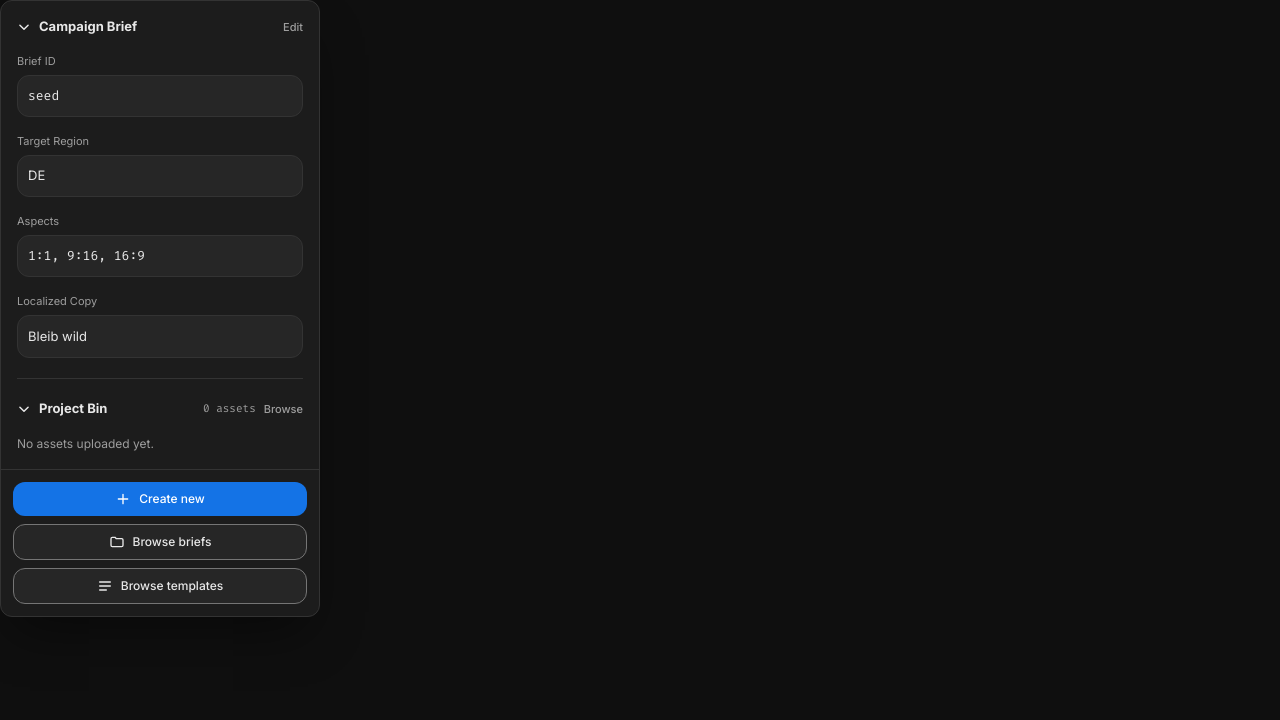
Test: Sidebar Project Bin delete › a stale listAssets response does not restore a deleted Sidebar row (PROVE DEFECT)
The image size is (1280, 720).
Check: the text "Project Bin" is shown, box [39, 399, 107, 419]
Check: the text "0 assets" is shown, box [203, 401, 256, 417]
// Open the drawer — its listAssets GET resolves immediately with both assets.
What coordinates should you click on to do the following:
click the button "Browse"
I would click on:
 (283, 409)
Its box is [264, 401, 303, 417].
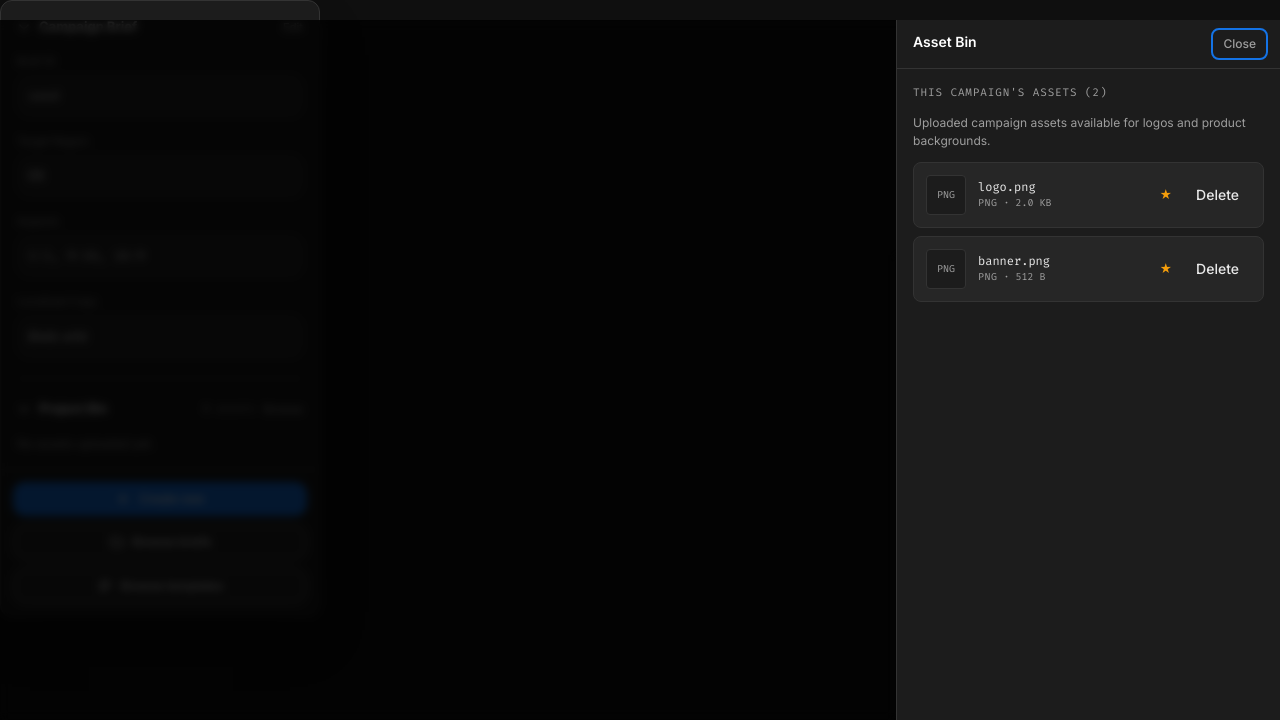
Check: the text "logo.png" is shown, box [978, 179, 1036, 195]
// Delete logo through the real drawer.
What coordinates should you click on to do the following:
click the button "Delete" in the row of "logo.png"
I would click on:
 (1218, 194)
Its box is [1184, 178, 1251, 210].
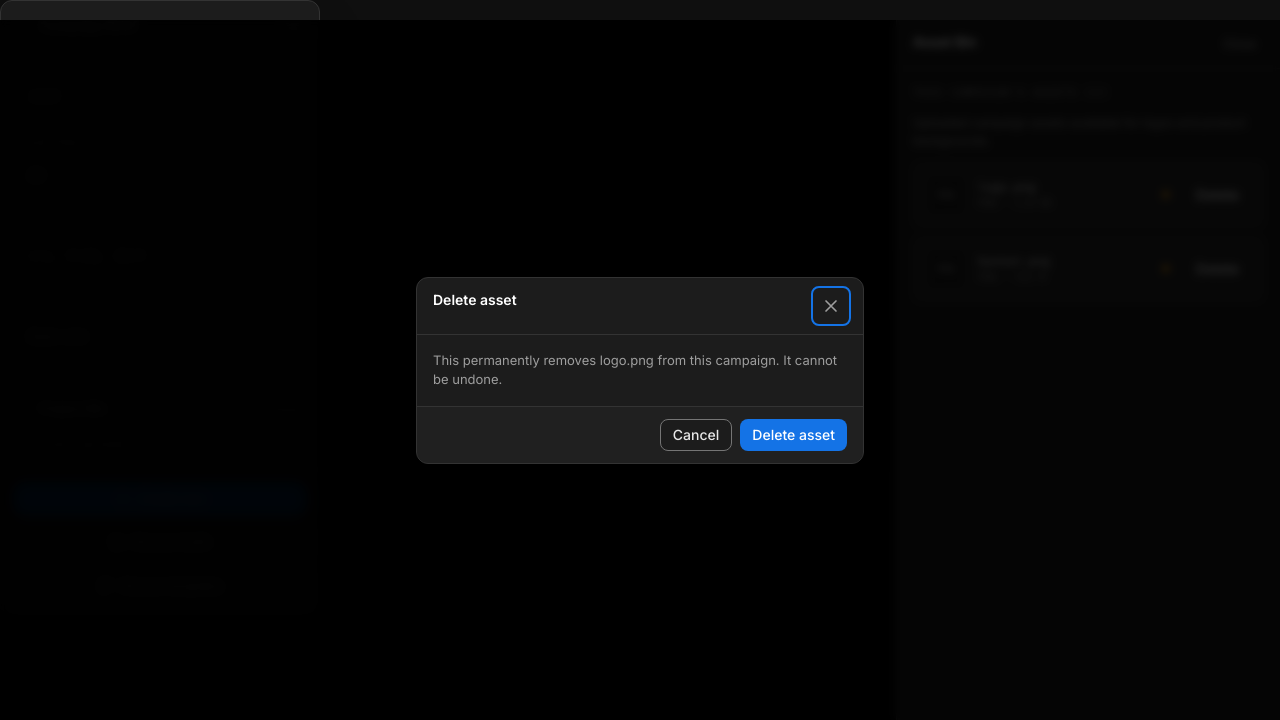
What coordinates should you click on to do the following:
click the button "Delete asset"
I would click on:
 (794, 434)
Its box is [740, 418, 847, 450].
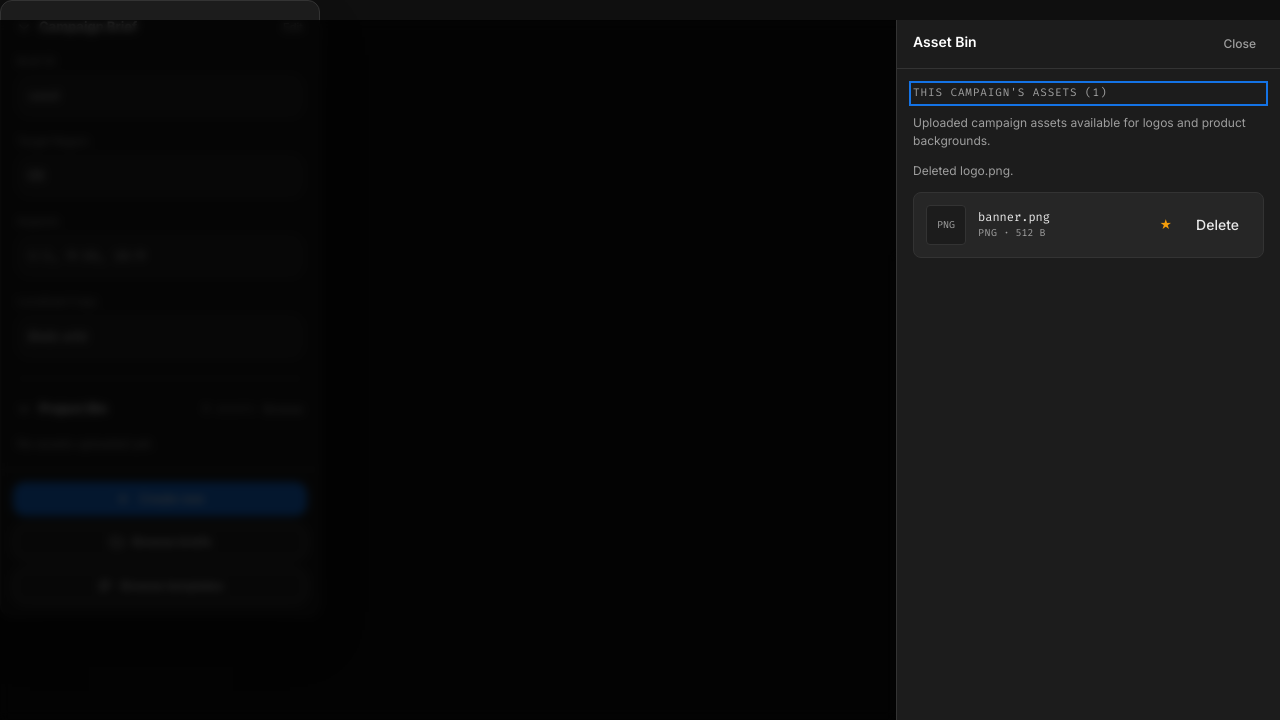
What coordinates should you click on to do the following:
click the button with aria-label "Close drawer"
I would click on:
 (1240, 44)
Its box is [1215, 32, 1264, 56].
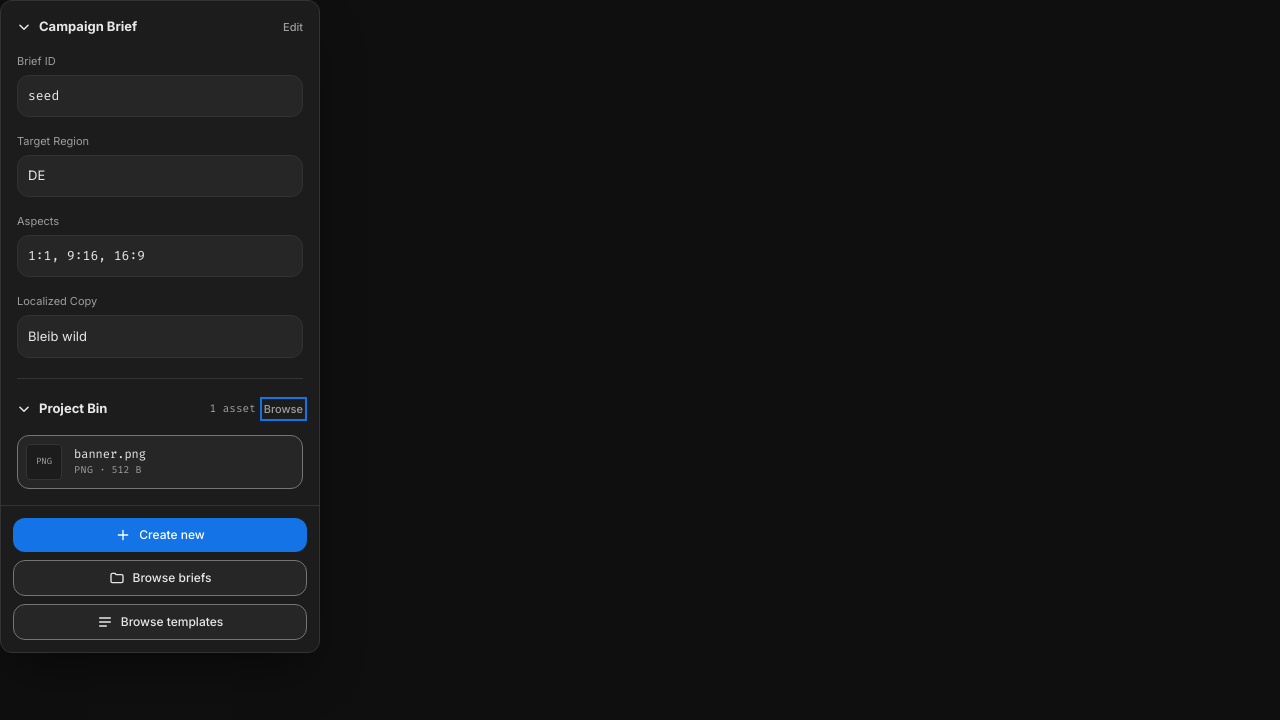
Check: the text "banner.png" is shown, box [74, 446, 146, 462]
Check: the heading "Asset Bin" is gone
Check: the text "logo.png" is gone
